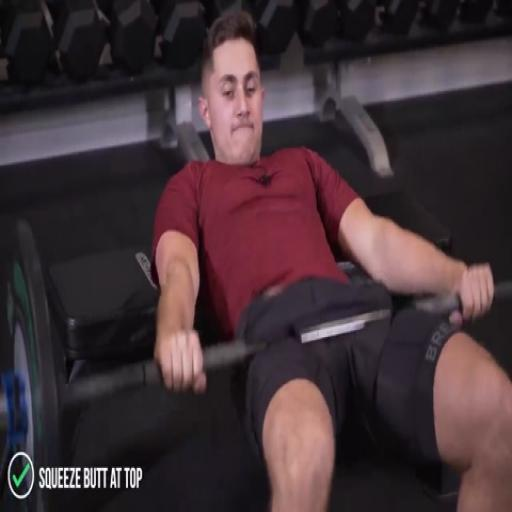exercise: (148, 10, 511, 511)
